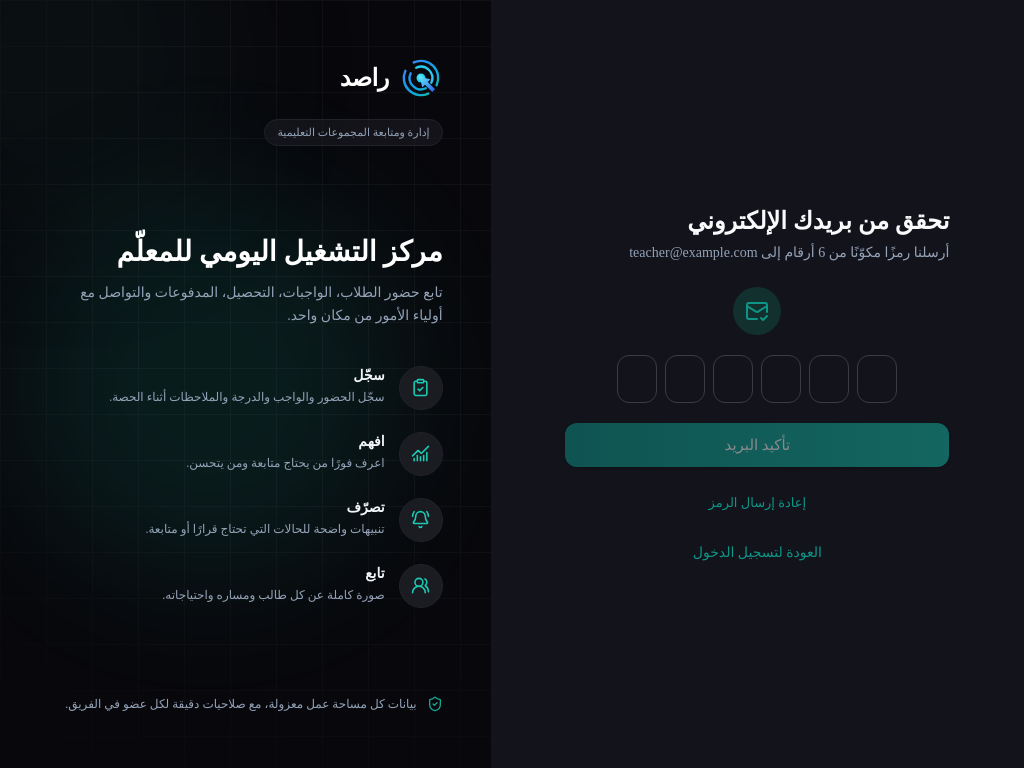
Test: VerifyEmailPage › shows an Arabic error and does not redirect for an invalid code
Type "0" into the field named "رقم 1 من رمز التحقق" at (637, 379), box [617,355,657,403]
Type "0" into the field named "رقم 2 من رمز التحقق" at (685, 379), box [665,355,705,403]
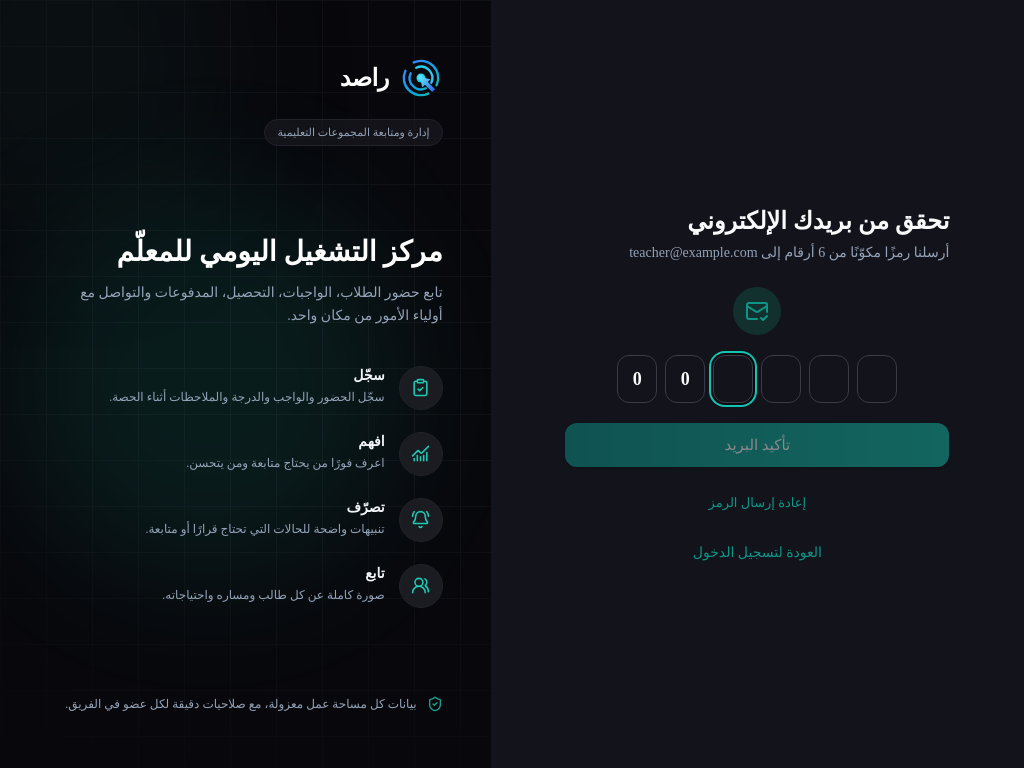
Type "0" into the field named "رقم 3 من رمز التحقق" at (733, 379), box [713,355,753,403]
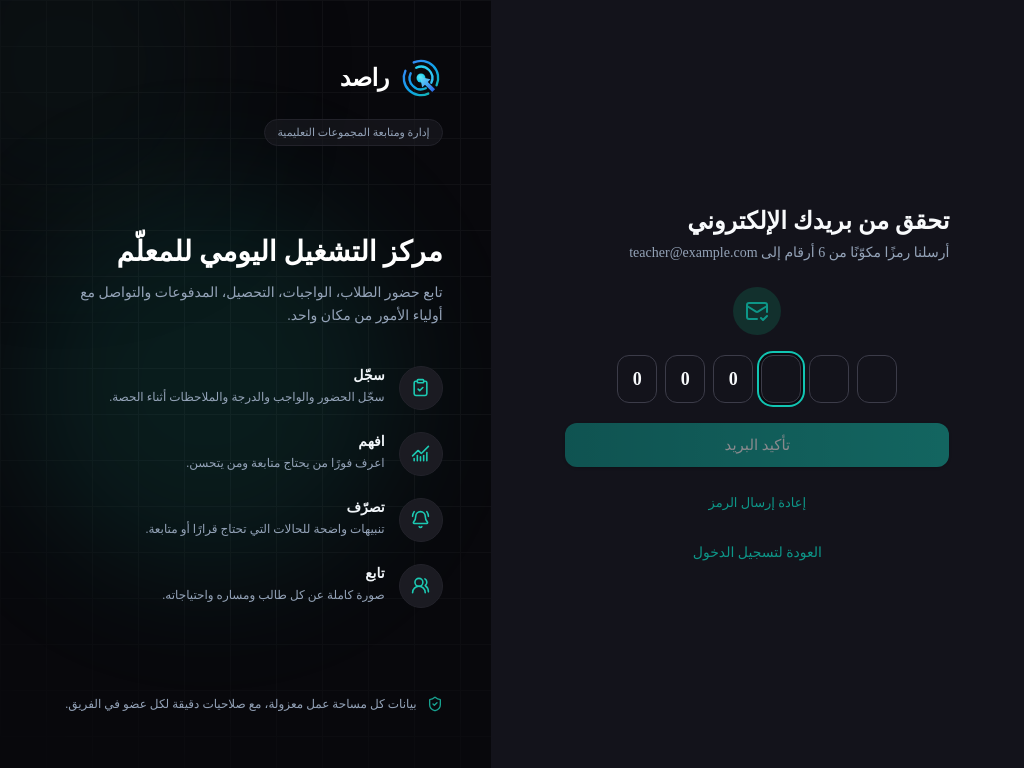
Type "0" into the field named "رقم 4 من رمز التحقق" at (781, 379), box [761,355,801,403]
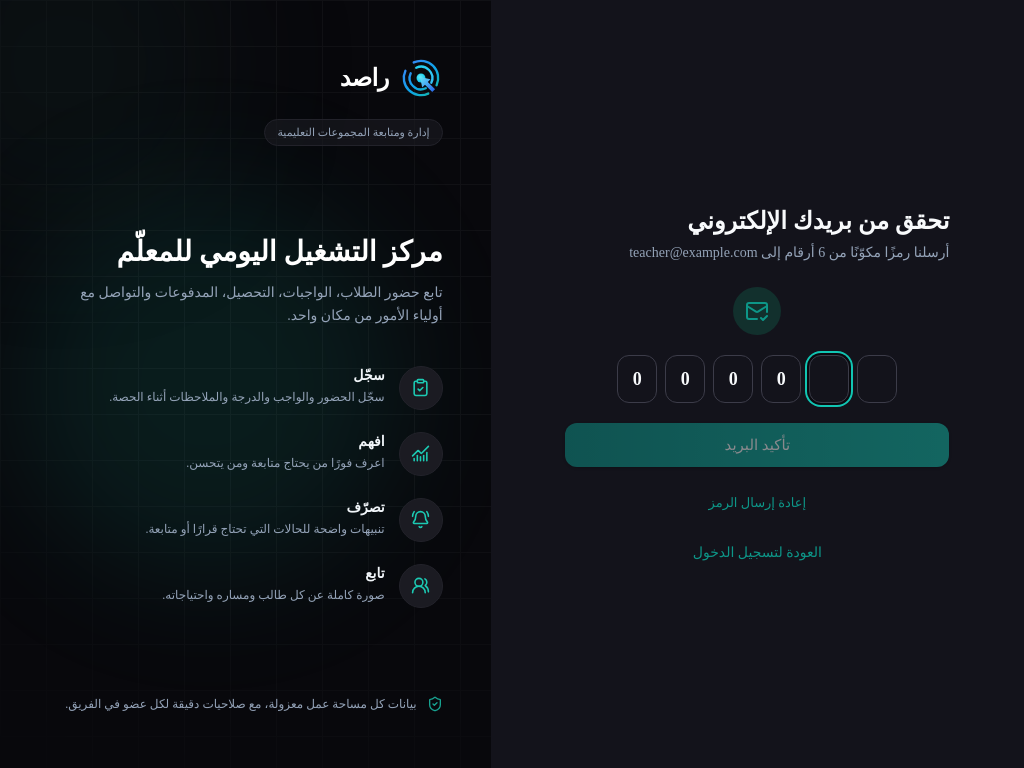
Type "0" into the field named "رقم 5 من رمز التحقق" at (829, 379), box [809,355,849,403]
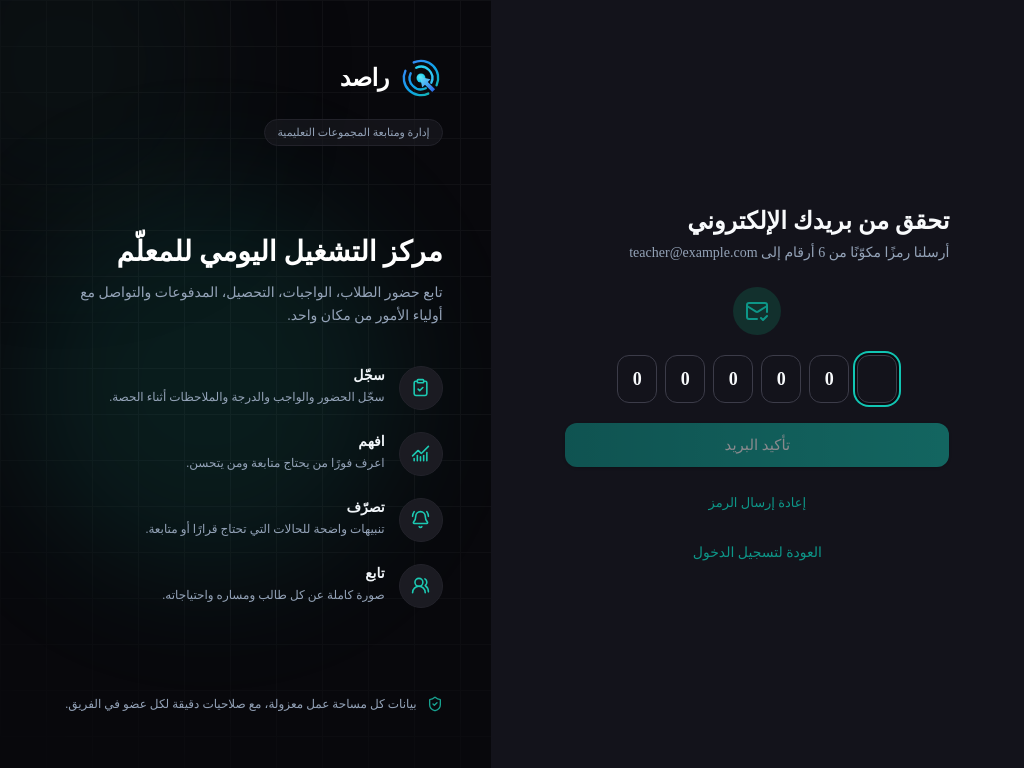
Type "0" into the field named "رقم 6 من رمز التحقق" at (877, 379), box [857,355,897,403]
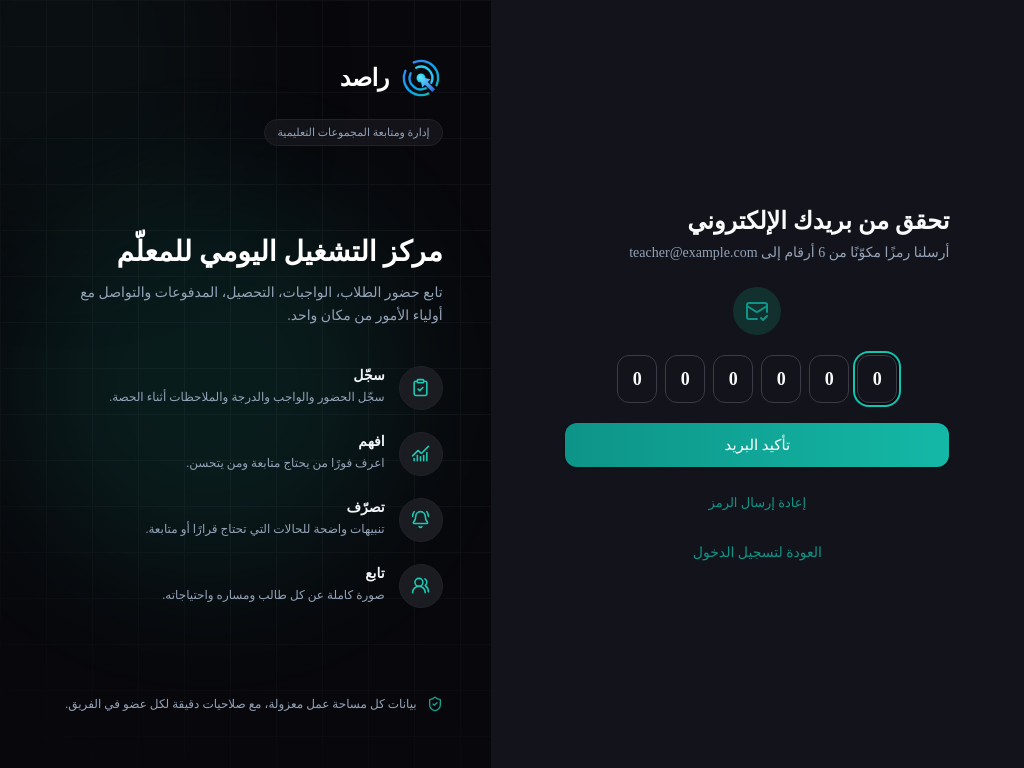
Click the button "تأكيد البريد" at (757, 445), box [565,423,949,467]
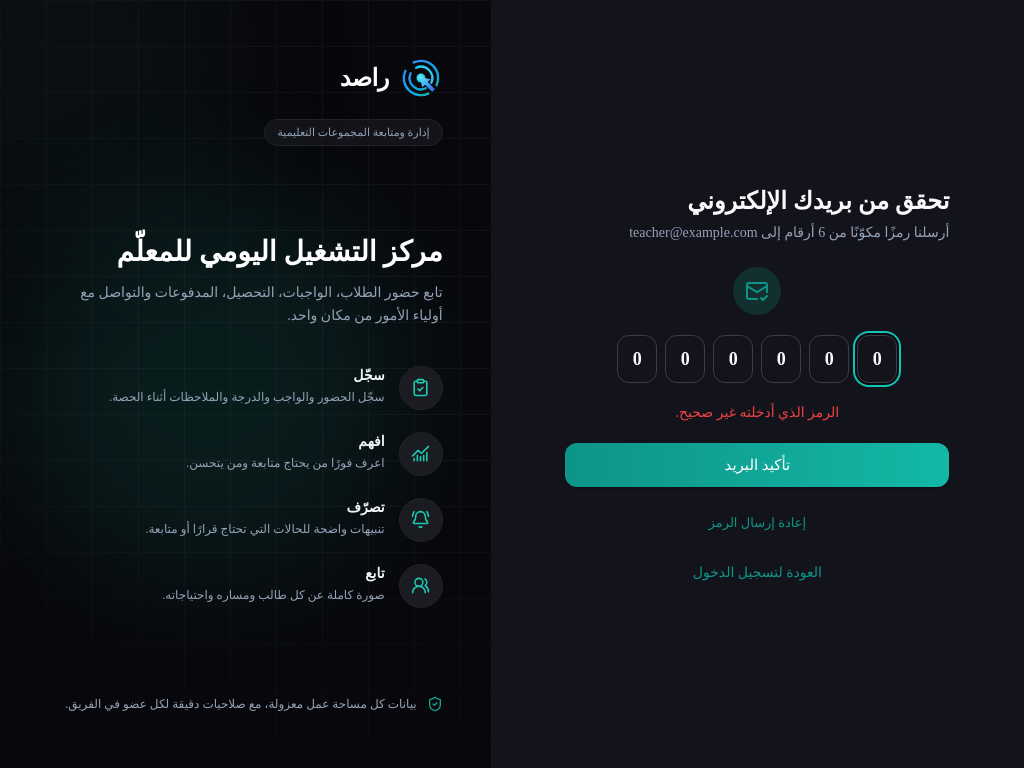
expect the text "الرمز الذي أدخلته غير صحيح." is shown: met, box [676,403,839,423]
